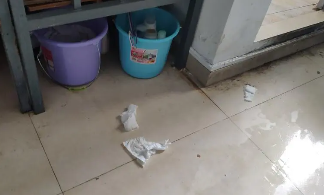garbage: (120, 135, 176, 164), (115, 102, 146, 133), (237, 81, 261, 104)
